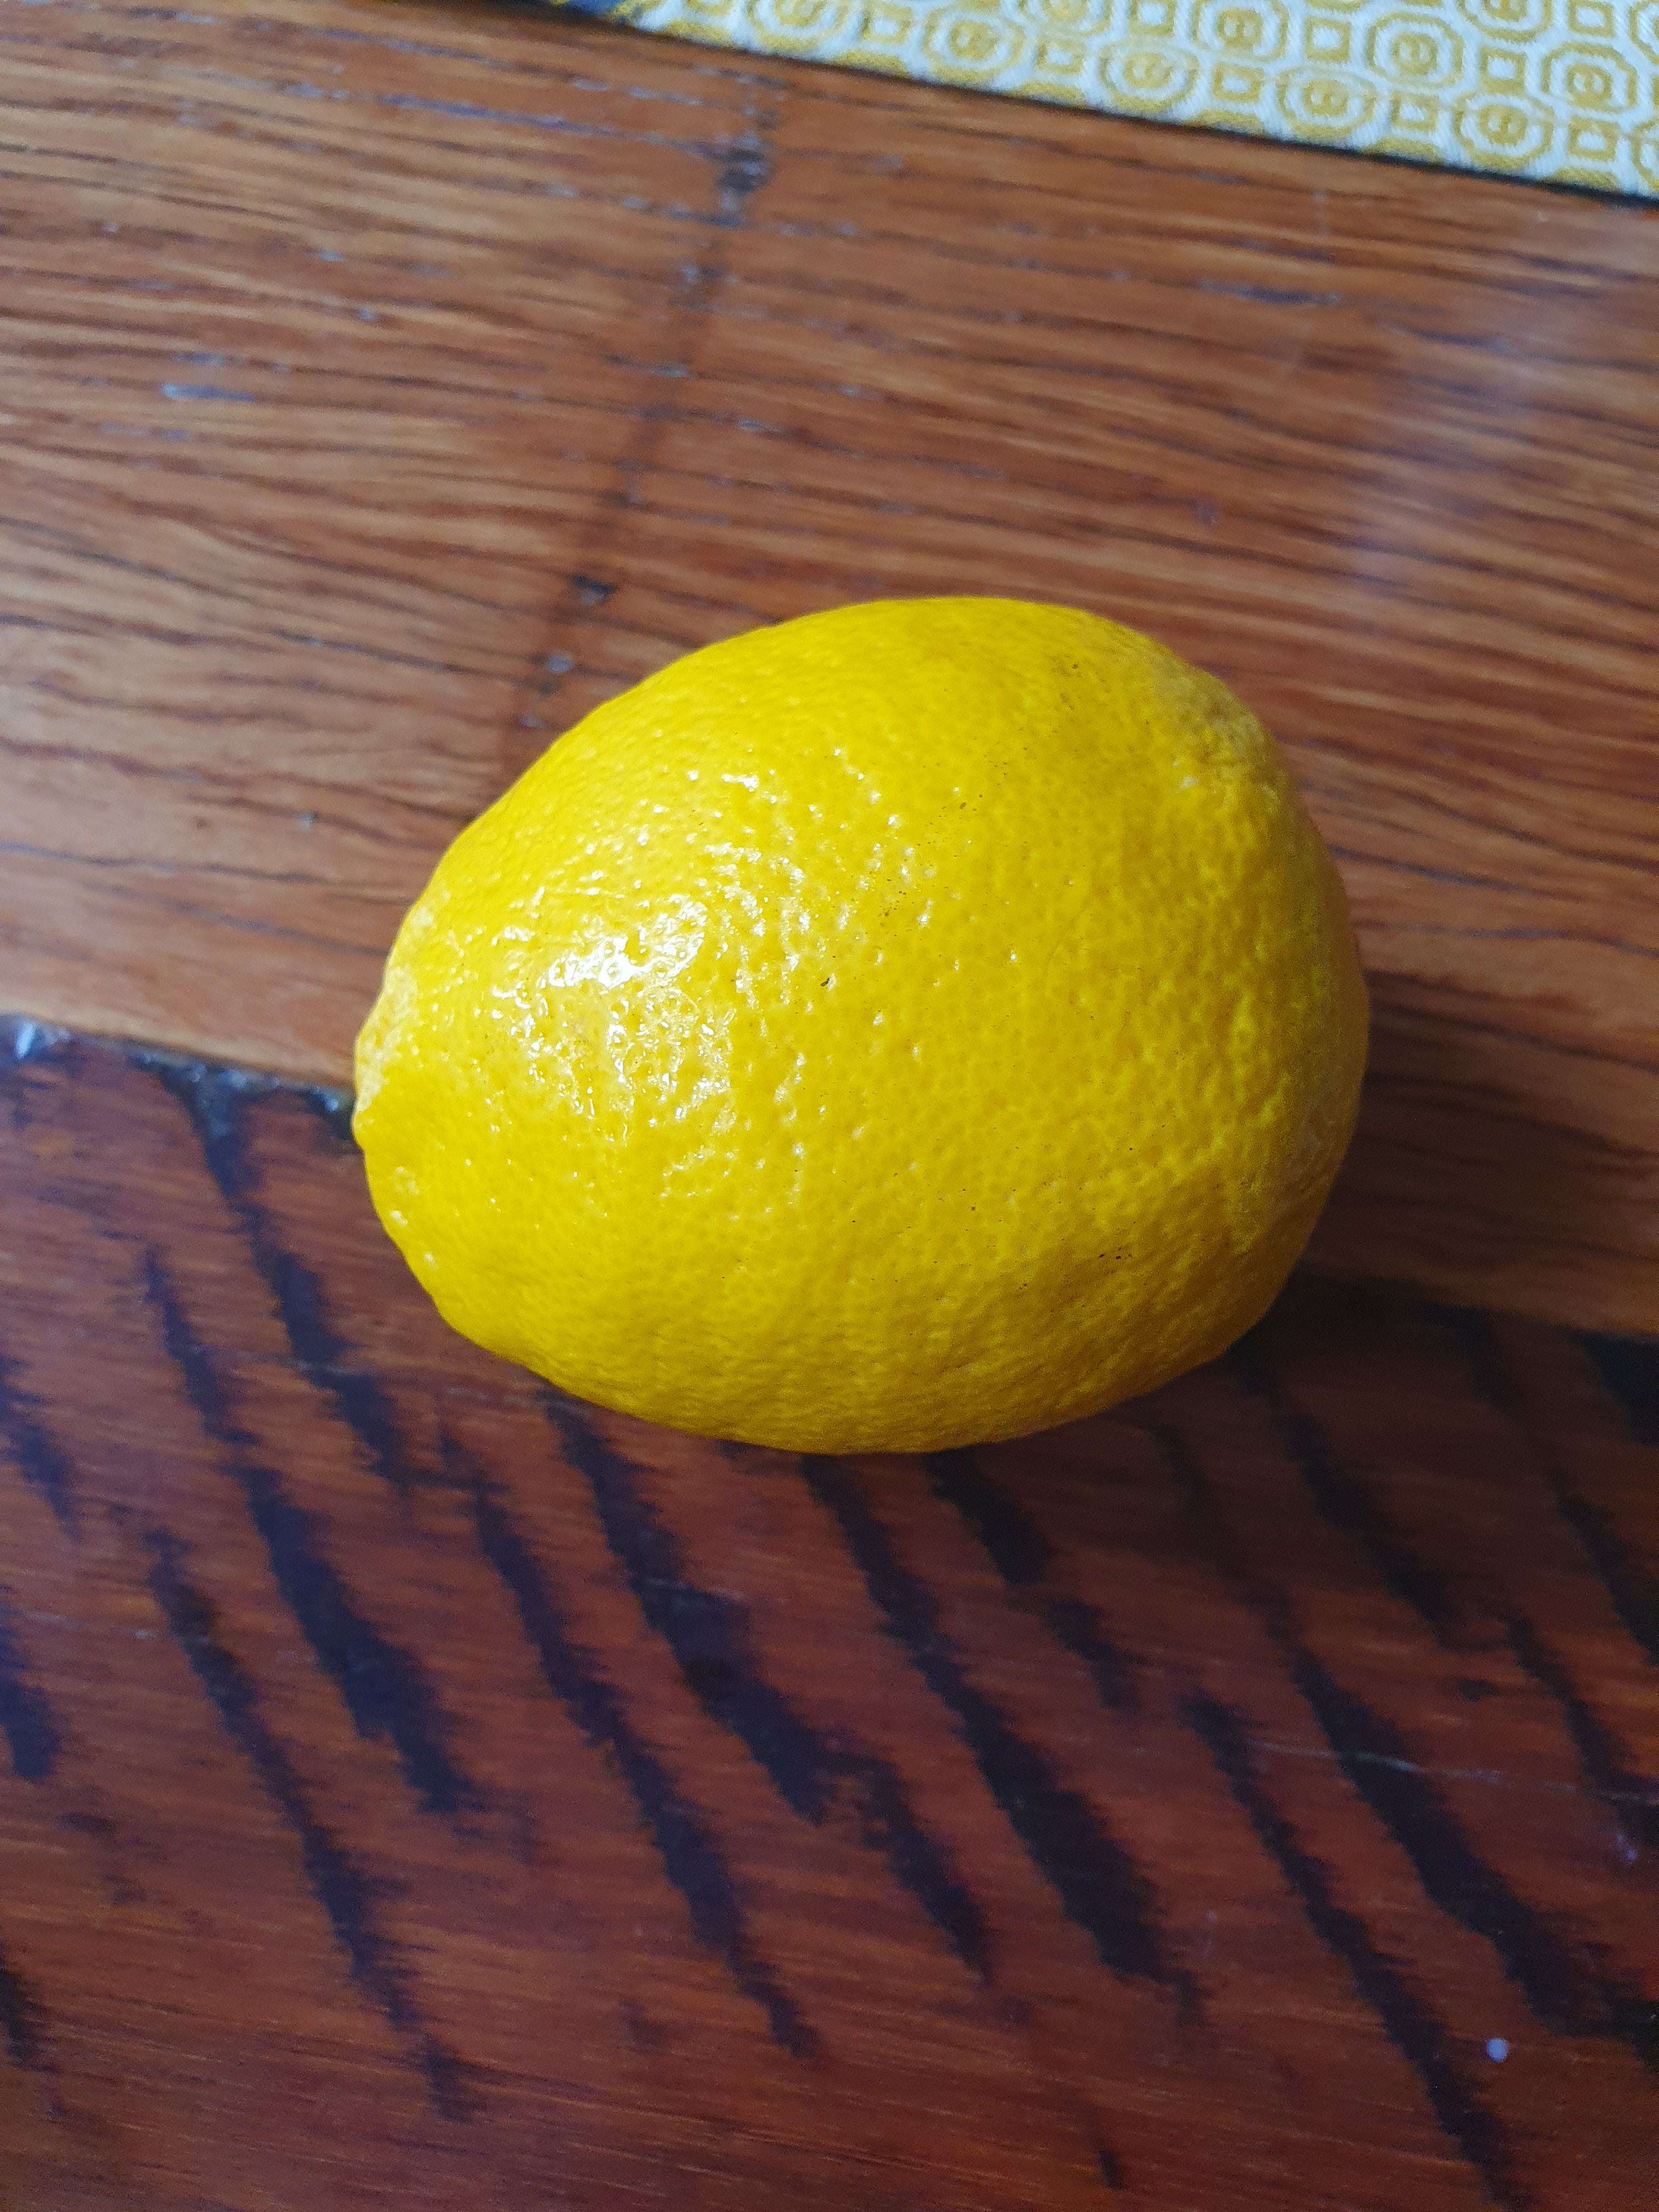lemon: (291, 601, 1377, 1449)
